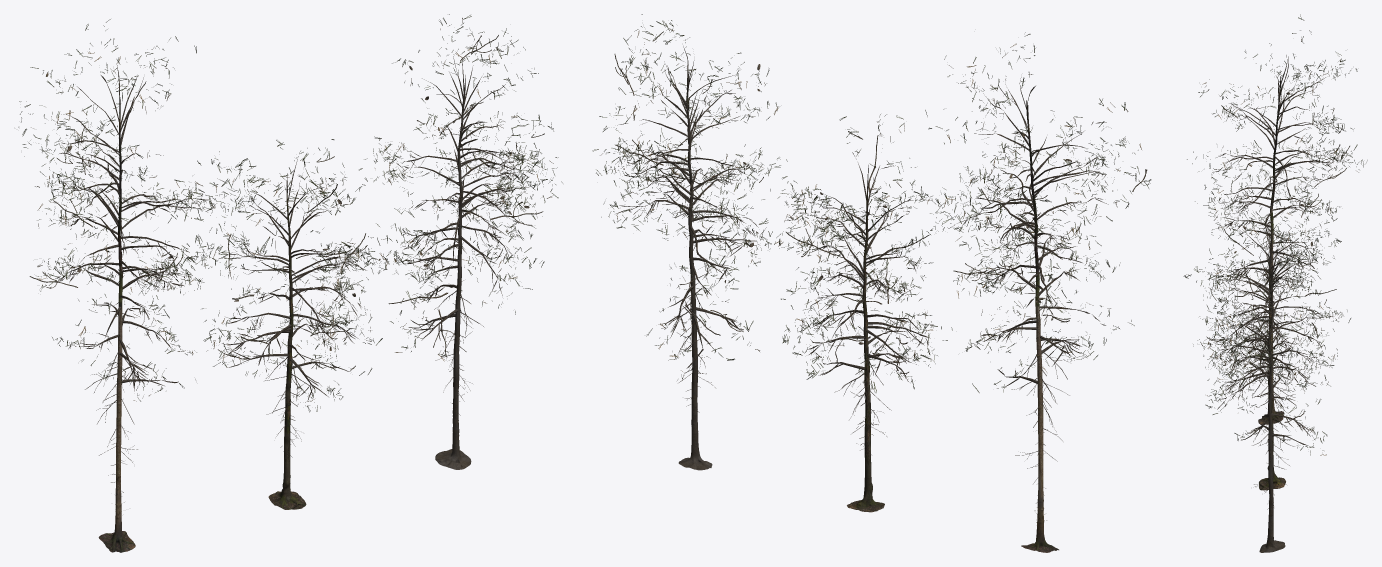
The model's file is pine_tree_01.glb.
3 views of the same model, side by side, from view 1: azimuth 30°, elevation 25°; view 2: azimuth 150°, elevation 25°; view 3: azimuth 270°, elevation 25° (orthographic). The views are drawn at different scales.
Parts seen in each view (by area): view 1: pine_tree_01_a_LOD0, pine_tree_01_c_LOD0, pine_tree_01_b_LOD0; view 2: pine_tree_01_a_LOD0, pine_tree_01_c_LOD0, pine_tree_01_b_LOD0; view 3: pine_tree_01_c_LOD0, pine_tree_01_a_LOD0, pine_tree_01_b_LOD0.
Part boxes in pixels (left/top/right/bottom): pine_tree_01_a_LOD0: left=18, top=19, right=244, bottom=552; pine_tree_01_c_LOD0: left=359, top=14, right=562, bottom=469; pine_tree_01_b_LOD0: left=196, top=139, right=391, bottom=509; pine_tree_01_a_LOD0: left=925, top=32, right=1151, bottom=552; pine_tree_01_c_LOD0: left=592, top=14, right=790, bottom=470; pine_tree_01_b_LOD0: left=770, top=114, right=952, bottom=512; pine_tree_01_c_LOD0: left=1193, top=210, right=1350, bottom=552; pine_tree_01_a_LOD0: left=1187, top=14, right=1367, bottom=424; pine_tree_01_b_LOD0: left=1183, top=205, right=1341, bottom=490.
Bounding box in the file's own units: 21.78 × 20.32 × 8.45.
Materials: 6 (6 with a texture image).
